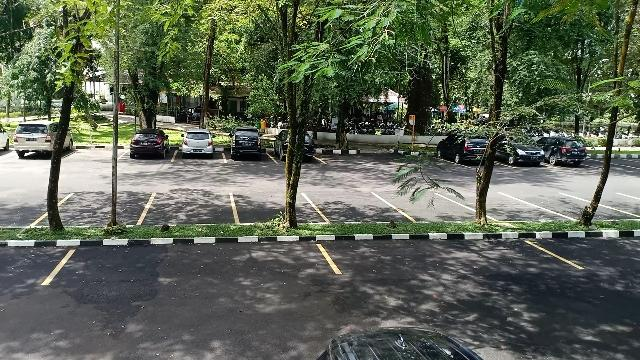empty: (59, 232, 334, 290), (333, 230, 557, 276), (54, 192, 150, 224), (149, 190, 237, 223), (234, 188, 318, 222), (392, 187, 466, 223), (467, 189, 539, 223), (314, 190, 390, 221), (541, 188, 605, 219), (68, 138, 120, 164)
occupied: (498, 137, 548, 169), (172, 133, 225, 163), (122, 134, 174, 164), (436, 138, 488, 168), (225, 131, 271, 163)
